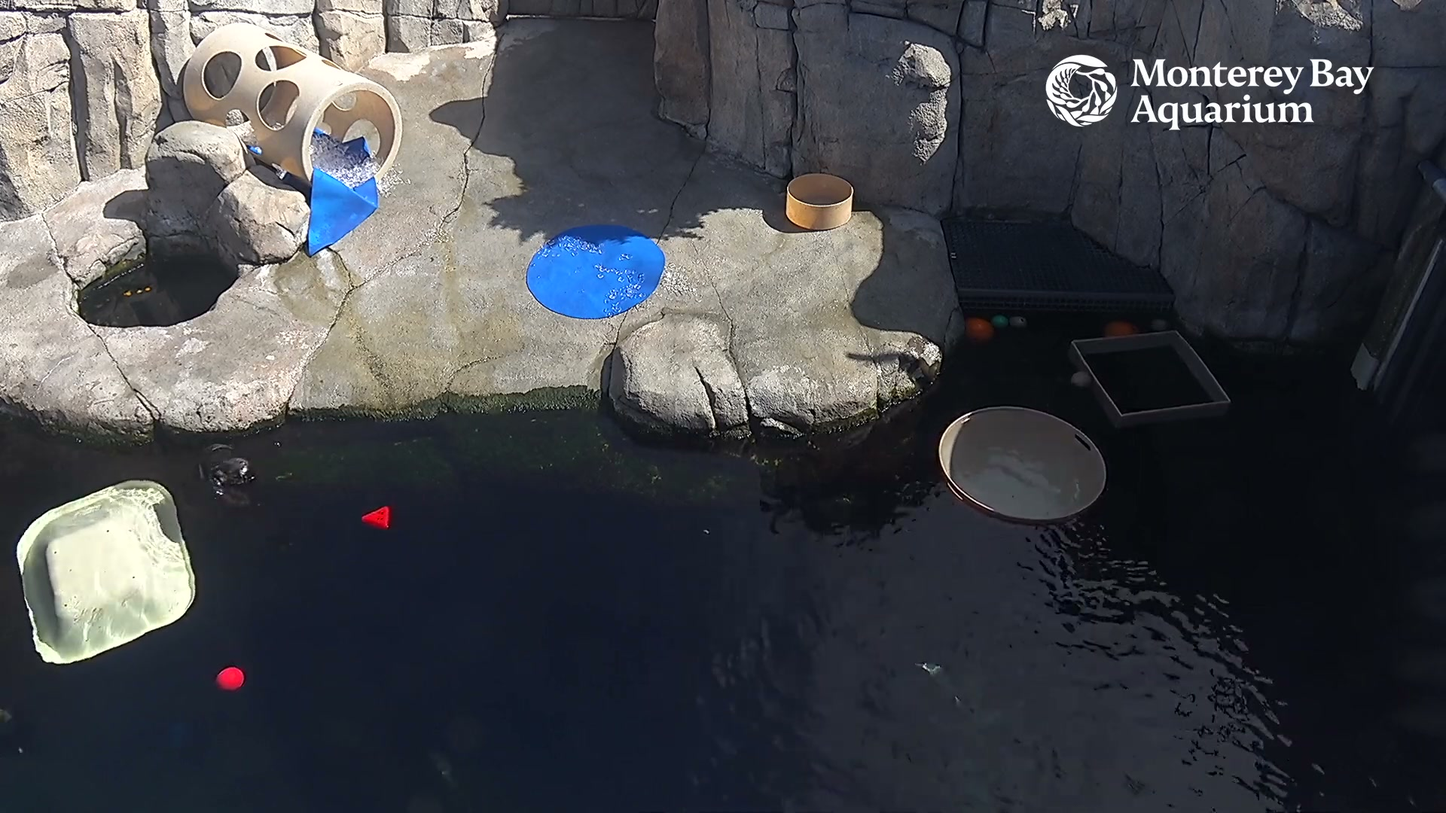Southern Sea Otter: (196, 430, 263, 516)
